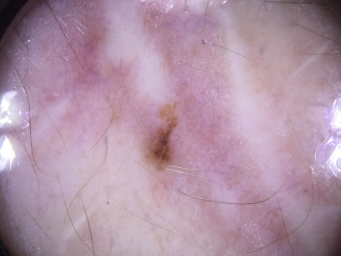melanoma: (145, 105, 180, 170)
